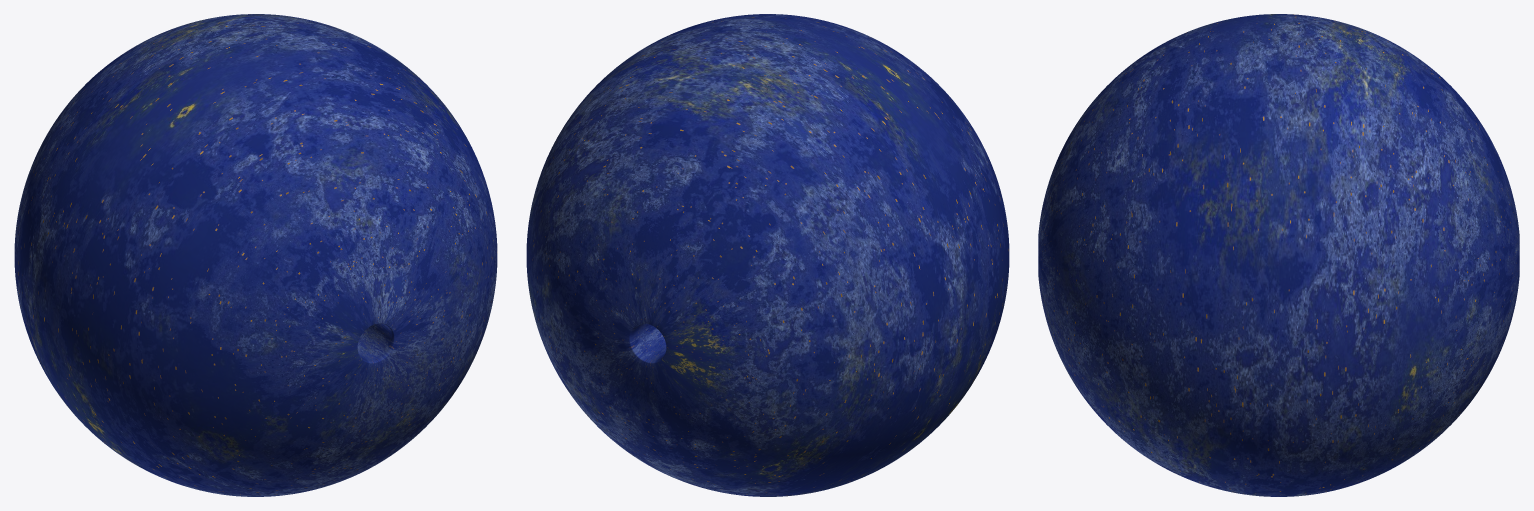
The model's file is lapis-lazuli-12mm.glb.
The picture shows the model from 3 angles, left to right: view 1: azimuth 30°, elevation 25°; view 2: azimuth 150°, elevation 25°; view 3: azimuth 270°, elevation 25°; orthographic projection.
Parts seen in each view (by area): view 1: lapis-lazuli; view 2: lapis-lazuli; view 3: lapis-lazuli.
Part boxes in pixels (bbox=[...]): lapis-lazuli: bbox=[14, 14, 497, 496]; lapis-lazuli: bbox=[526, 14, 1009, 496]; lapis-lazuli: bbox=[1038, 14, 1519, 496].
Bounding box in the file's own units: 0.012 × 0.012 × 0.012.
Materials: 1 (1 with a texture image).
